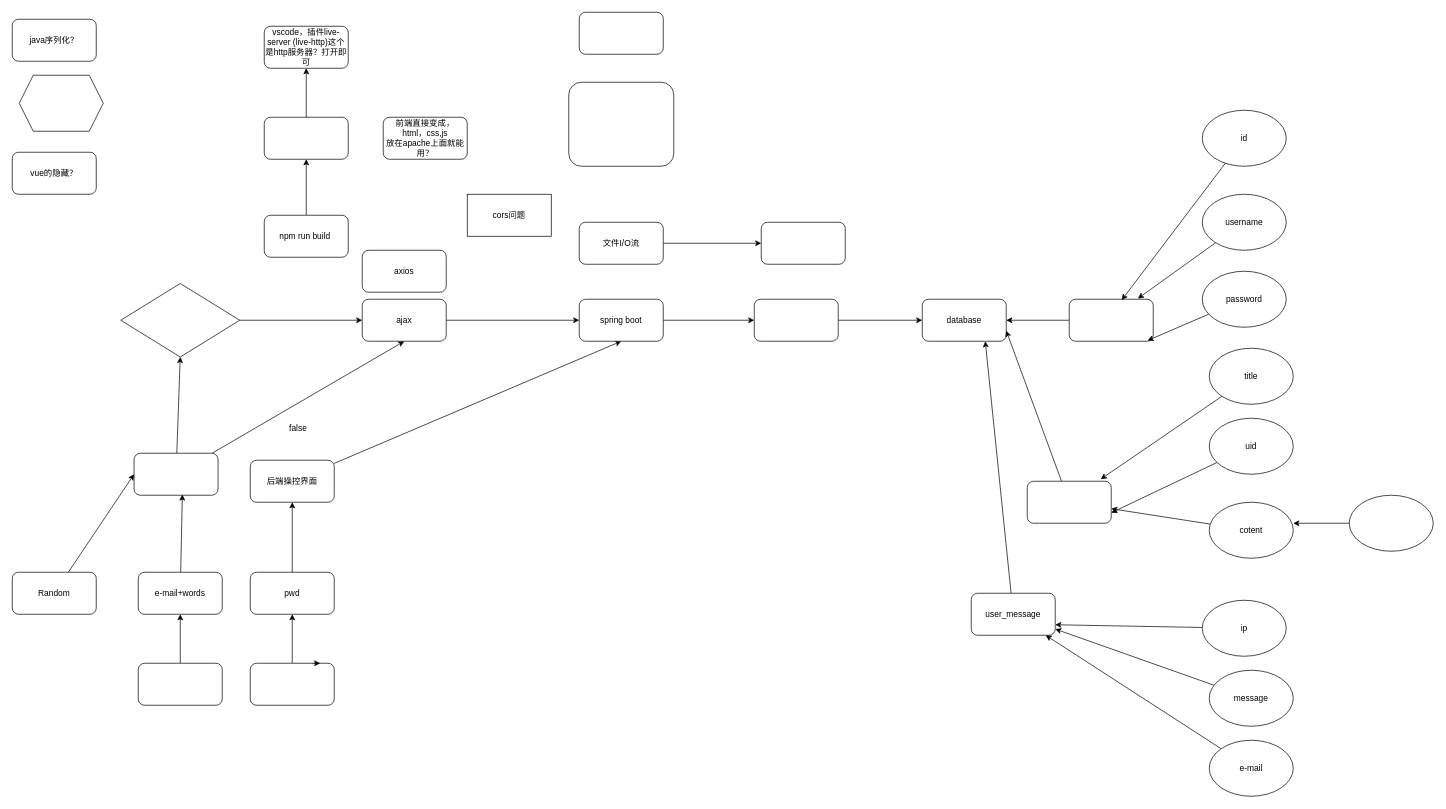
Some shapes in this 1446 by 809 pixel diagram are drawn without their labels. The shapes that lost their labels are listed below. From the top down, each one's centre as x and y in pixels, then its label:
At [61,103]: "提交的内容如何加密？".
At [306,138]: "修改js,css 路径，但是type = module 普通浏览器打不开，es module特性？".
At [621,124]: "后端 mvn clean package,直接变成.jar就可以部署到服务器上了，服务器装jdk（including jvm),从而实现跨平台？".
At [803,243]: "curd本地静态文件".
At [180,320]: "judge e-mail format".
At [796,320]: "MySQL".
At [1111,320]: "admin".
At [175,474]: "UI".
At [1069,502]: "article".
At [1391,523]: "midblob".
At [180,684]: "user write some information".
At [292,684]: "administrator登录".
